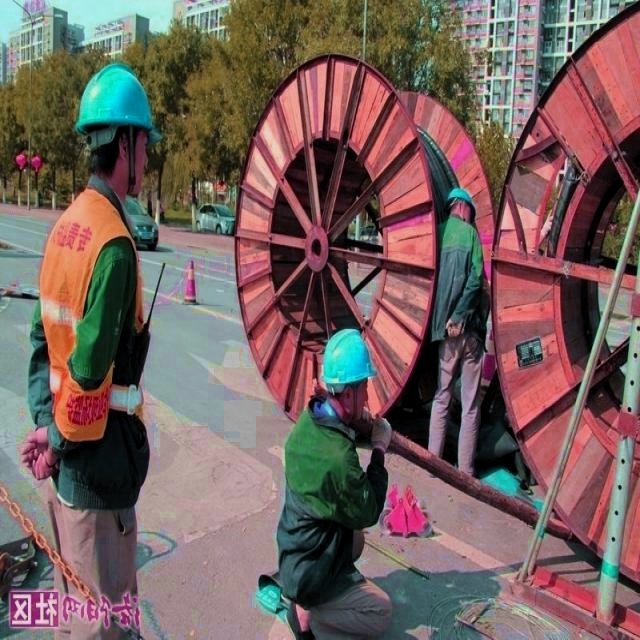Con_Casco: (74, 66, 162, 201), (322, 327, 378, 419)
